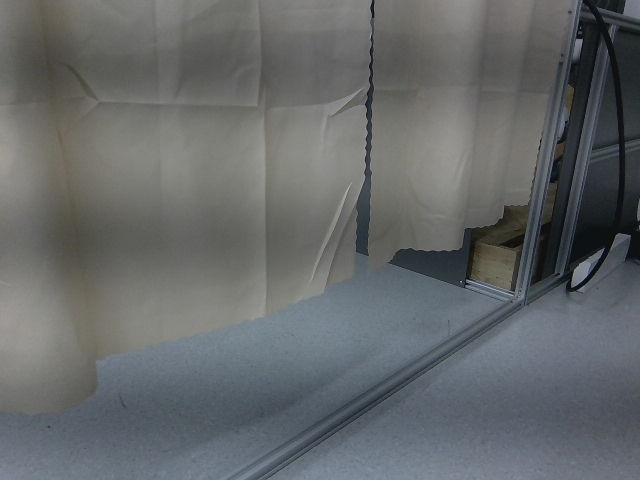curtain: (0, 0, 576, 360)
